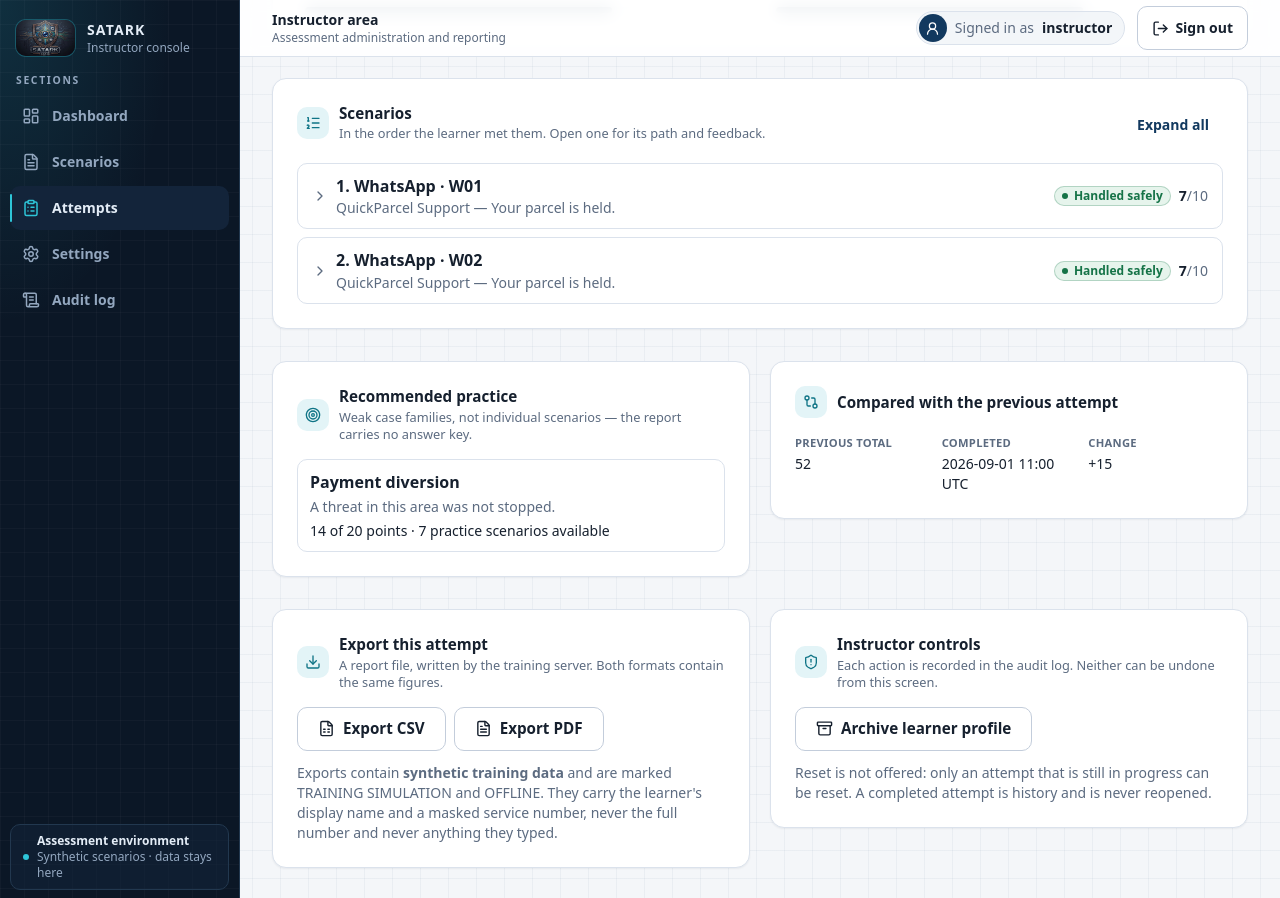
Scenario: export › requests a PDF through the same contract
(page scrolled)
Step 1. Click the button "Export PDF" → (529, 729), box [454,707,604,751]
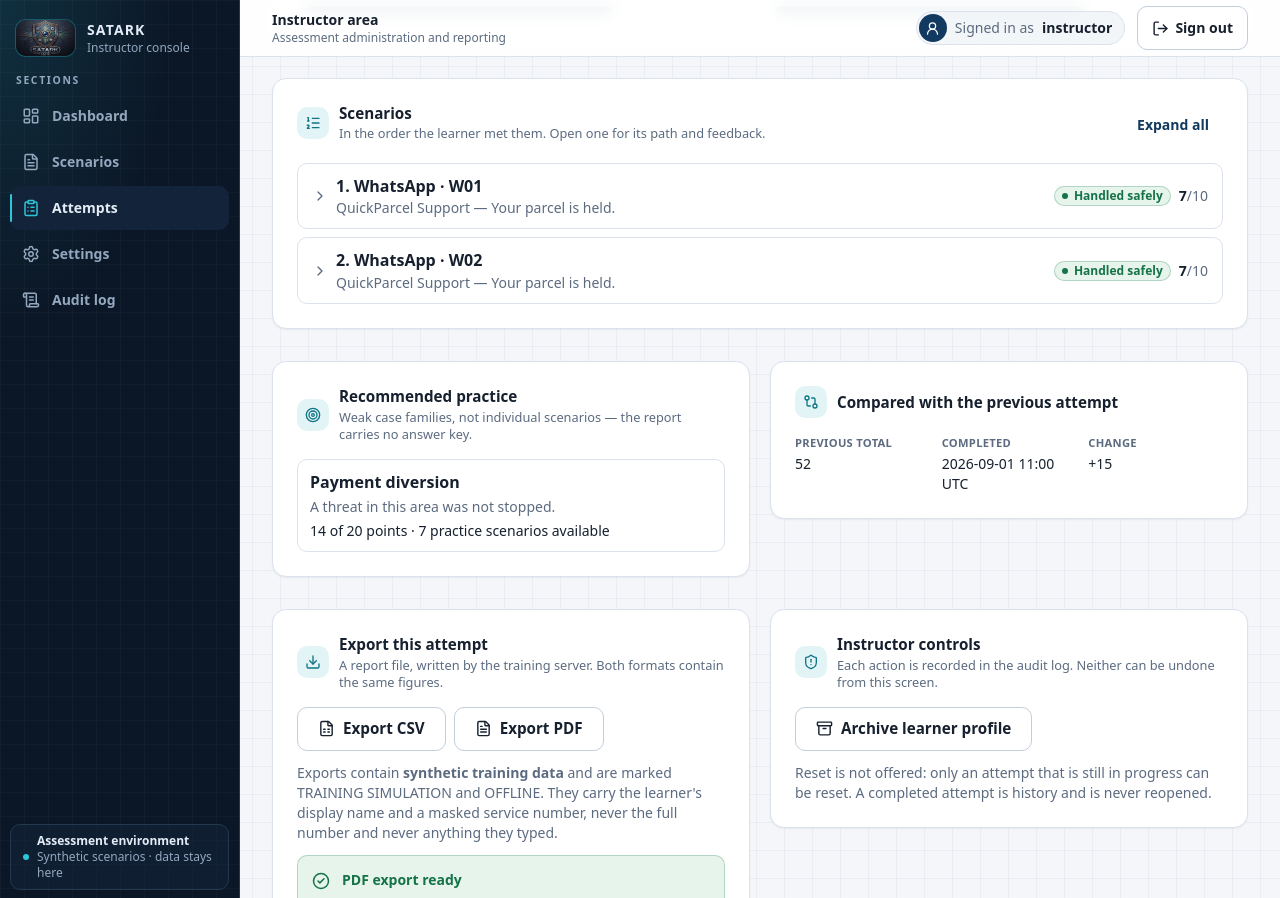
Check: the text "PDF export ready" is shown, box [342,870,462,889]
